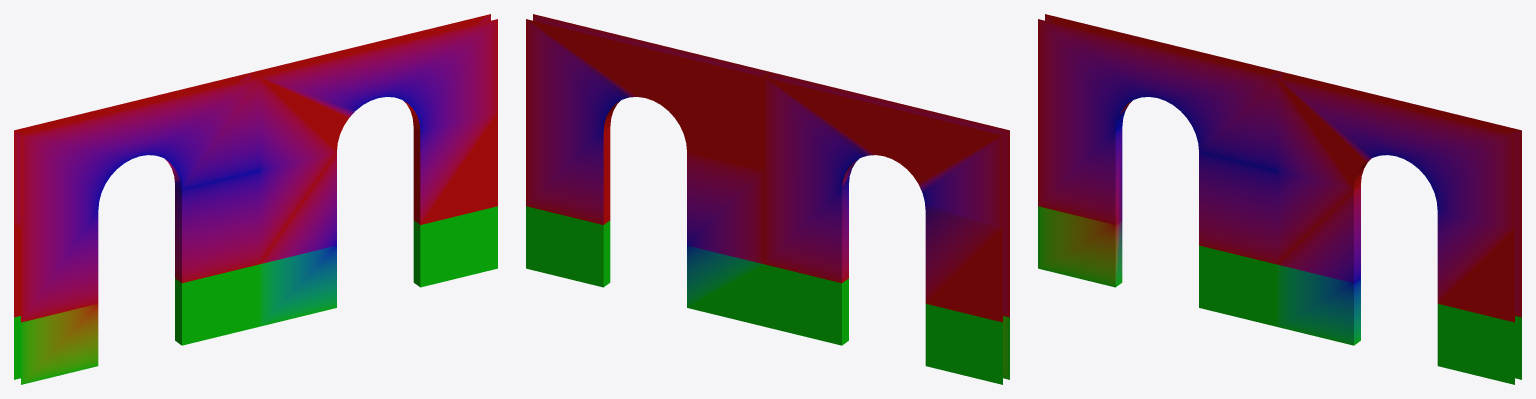
Rendered from ArchA_A_16x8.fbx.
3 renders of one model, left to right at view 1: azimuth 30°, elevation 25°; view 2: azimuth 150°, elevation 25°; view 3: azimuth 330°, elevation 25°, orthographic.
Parts seen in each view (by area): view 1: Circle.000; view 2: Circle.000; view 3: Circle.000.
Boxes of the visible parts, box(x1,y1,x2,y2) form: Circle.000: box(14, 14, 497, 384); Circle.000: box(526, 14, 1009, 384); Circle.000: box(1038, 14, 1521, 384).
Bounding box in the file's own units: 1600 × 800 × 40.
